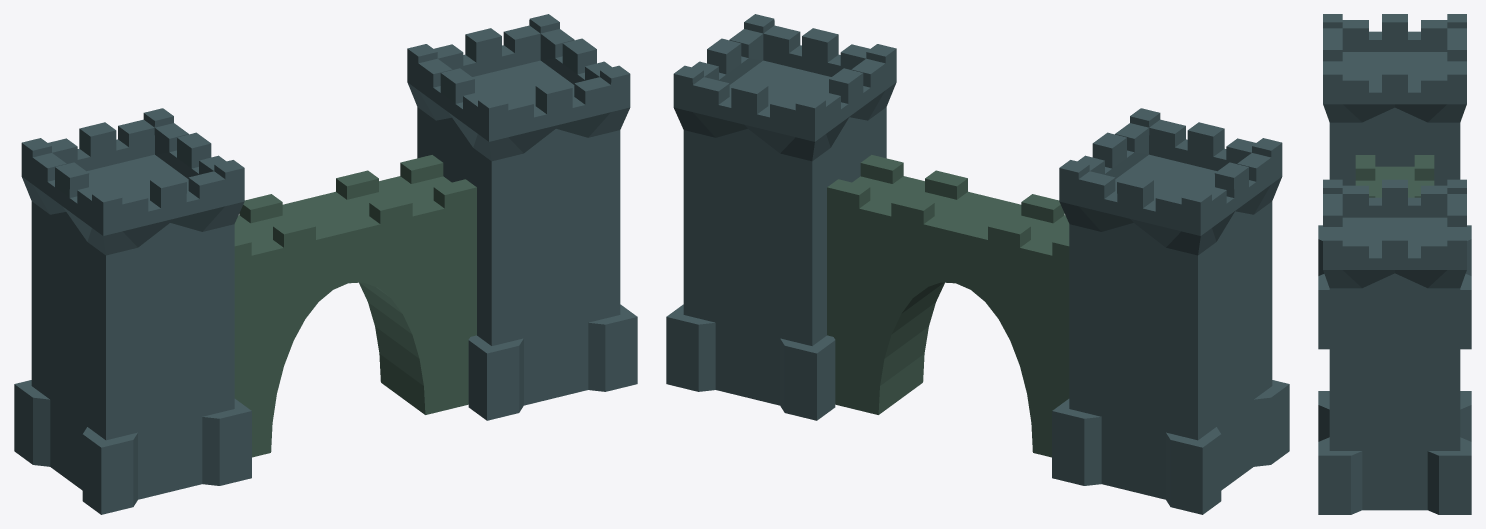
The picture shows the model from 3 angles, left to right: view 1: azimuth 30°, elevation 25°; view 2: azimuth 150°, elevation 25°; view 3: azimuth 270°, elevation 25°; orthographic projection. The views are drawn at different scales.
Visible parts, largest first — view 1: Cube.002; view 2: Cube.002; view 3: Cube.002.
Boxes of the visible parts, bbox=[...] form: Cube.002: bbox=[14, 14, 637, 514]; Cube.002: bbox=[666, 14, 1289, 514]; Cube.002: bbox=[1318, 14, 1471, 514].
Size of the model in its own units: 834 by 460 by 234.
